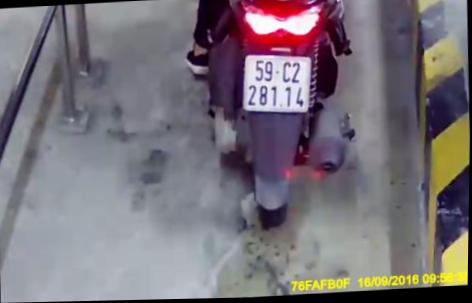LP: (241, 50, 314, 121)
